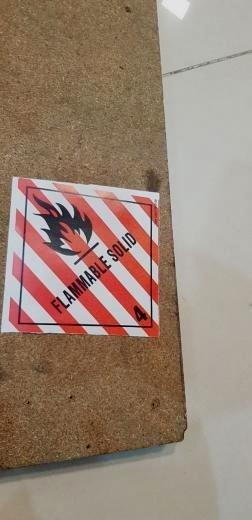flammable-solid: (1, 174, 161, 341)
